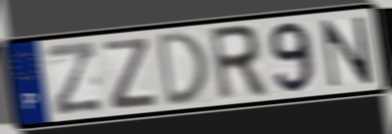9: (268, 20, 317, 96)
D: (155, 28, 210, 110)
N: (319, 14, 375, 90)
R: (206, 22, 270, 105)
Z: (43, 39, 106, 119), (102, 36, 159, 112)
